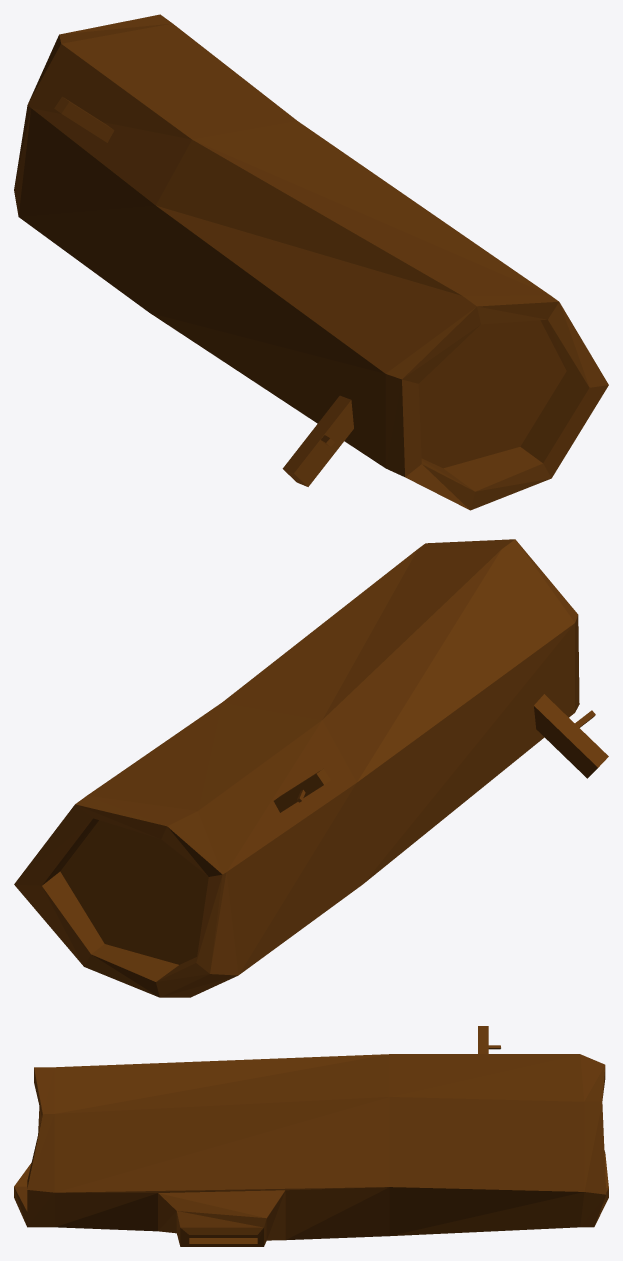
The model's file is Treestamm 106 Poly.fbx.
3 views of the same model, one above another, from view 1: azimuth 30°, elevation 25°; view 2: azimuth 150°, elevation 25°; view 3: azimuth 270°, elevation 25° (orthographic). The views are drawn at different scales.
Visible parts, largest first — view 1: Würfel_4; view 2: Würfel_4; view 3: Würfel_4.
Part boxes in pixels (x1,y1,x2,y2): Würfel_4: (14, 14, 608, 510); Würfel_4: (14, 539, 608, 997); Würfel_4: (14, 1026, 608, 1246).
Size of the model in its own units: 134 by 94.83 by 340.
